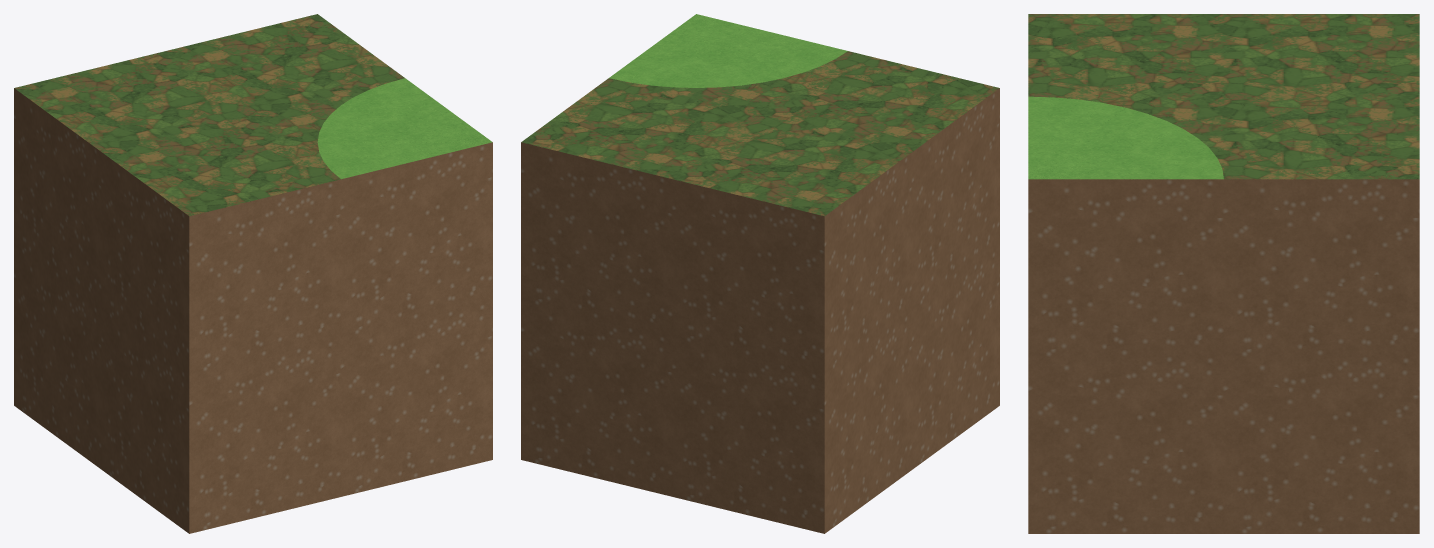
The model's file is Forest_InnerCorner_F.fbx.
3 views of the same model, side by side, from view 1: azimuth 30°, elevation 25°; view 2: azimuth 150°, elevation 25°; view 3: azimuth 270°, elevation 25° (orthographic). The views are drawn at different scales.
Parts seen in each view (by area): view 1: Forest_InnerCorner_F; view 2: Forest_InnerCorner_F; view 3: Forest_InnerCorner_F.
Boxes of the visible parts, <box> form: Forest_InnerCorner_F: <box>14,14,492,533</box>; Forest_InnerCorner_F: <box>521,14,999,533</box>; Forest_InnerCorner_F: <box>1028,14,1419,533</box>.
Size of the model in its own units: 3 by 3 by 3.
Materials: 3 (3 with a texture image).
